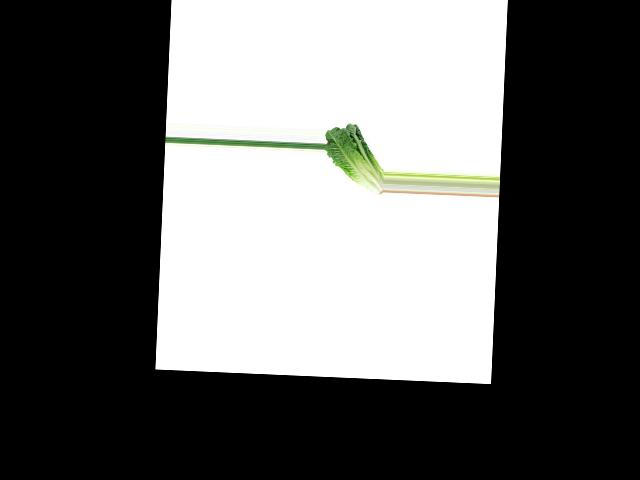lettuce: (323, 121, 386, 195)
